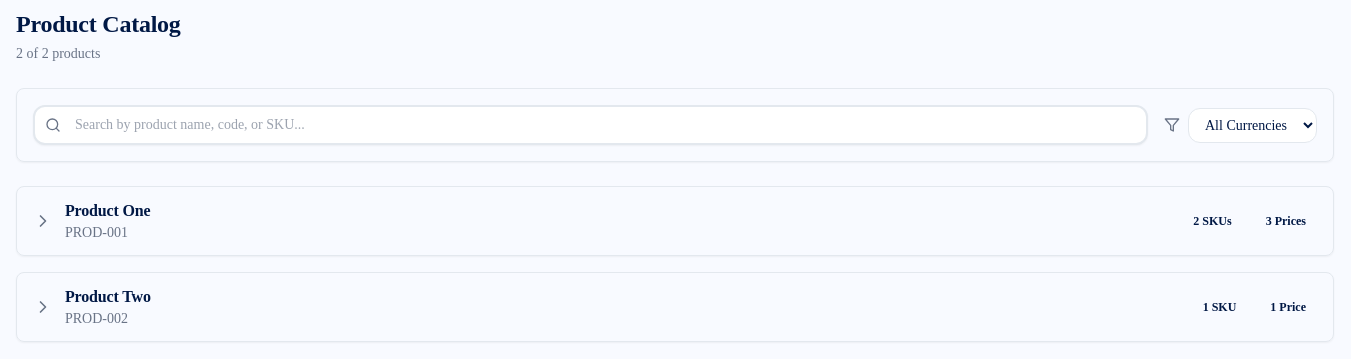
Test: ProjectCatalog › should filter products by currency
The width and height of the screenshot is (1351, 359).
Expected: the heading "Product One" is shown, [65,199,150,223]
Select "EUR" in the dropdown at (1252, 125), box [1188,108,1317,142]
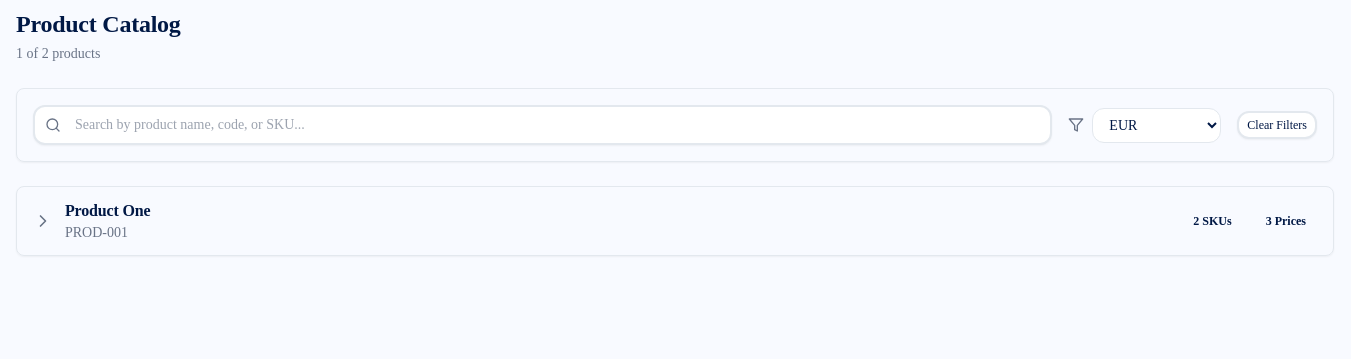
Expected: the heading "Product One" is shown, [65,199,150,223]
Result: the button "Product Two" is gone
